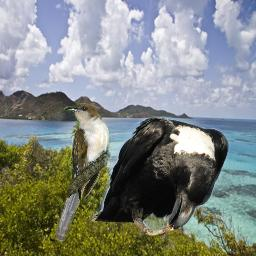Crow: (89, 114, 231, 240)
Cuckoo: (55, 103, 111, 242)
